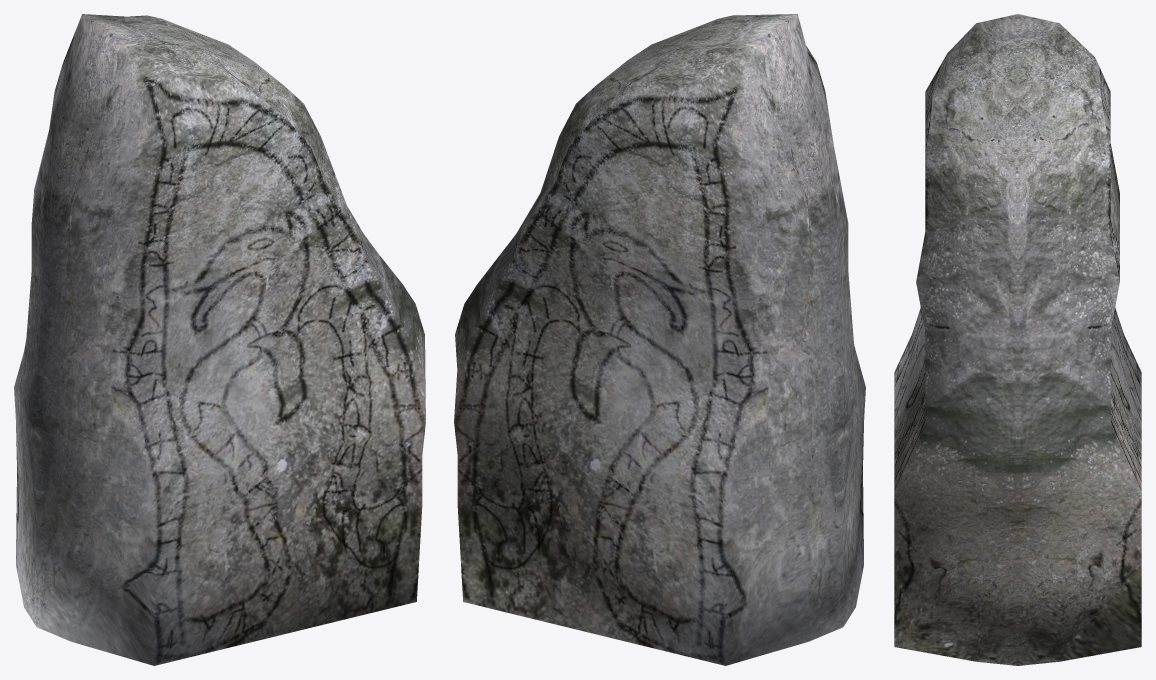
Rendered from monument_stone_b.dae.
3 renders of one model, left to right at view 1: azimuth 30°, elevation 25°; view 2: azimuth 150°, elevation 25°; view 3: azimuth 270°, elevation 25°, orthographic. The views are drawn at different scales.
Parts seen in each view (by area): view 1: meshU3D; view 2: meshU3D; view 3: meshU3D.
Boxes of the visible parts, x1,y1,x2,y2 form: meshU3D: (14, 14, 425, 665); meshU3D: (454, 14, 865, 665); meshU3D: (894, 14, 1141, 665).
Bounding box in the file's own units: 61.4 × 90.87 × 38.9.
1 material, 1 textured.
